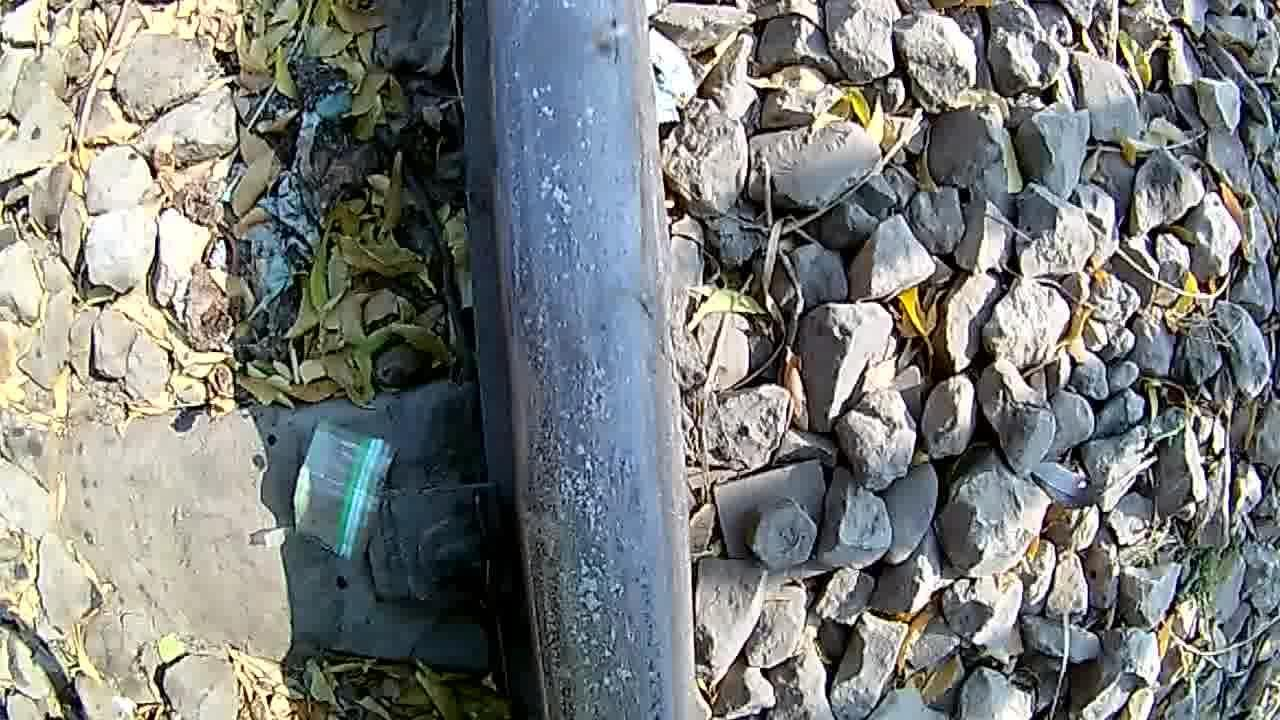crack: (490, 0, 667, 720)
